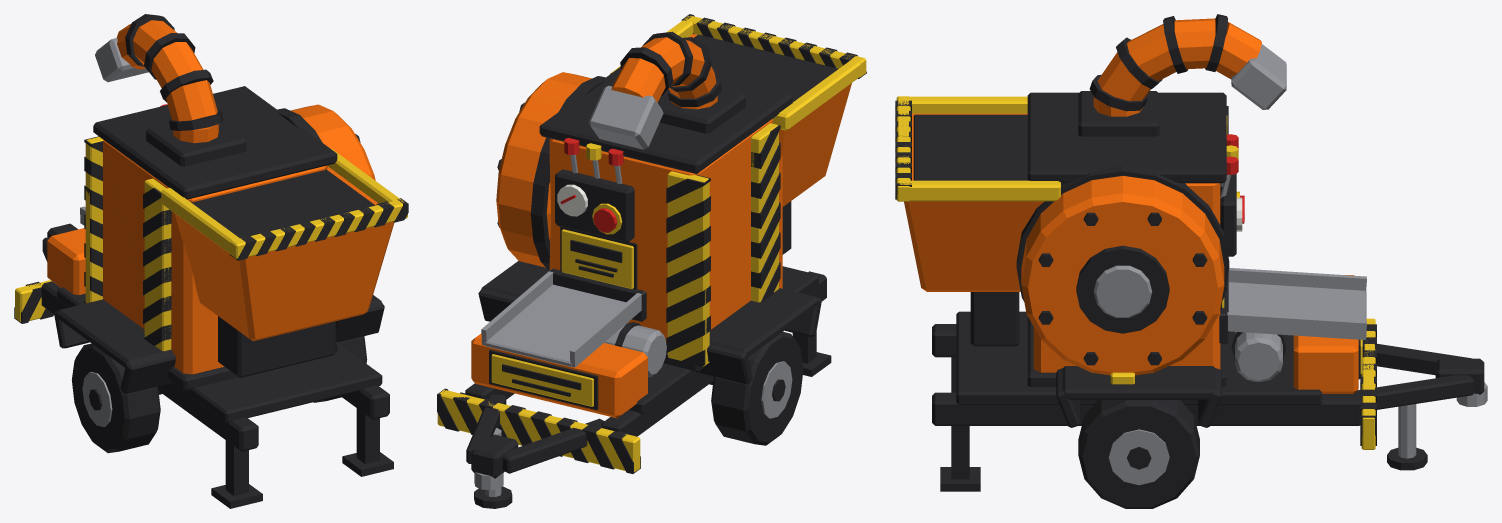
File: shredder.glb
3 renders of one model, left to right at view 1: azimuth 30°, elevation 25°; view 2: azimuth 150°, elevation 25°; view 3: azimuth 270°, elevation 25°, orthographic. The views are drawn at different scales.
Visible parts, largest first — view 1: SmoothPlastic__26262A, SmoothPlastic__FF700A, SmoothPlastic__FACE1E, Metal__96989E; view 2: SmoothPlastic__26262A, SmoothPlastic__FF700A, SmoothPlastic__FACE1E, Metal__96989E, SmoothPlastic__DC221E, SmoothPlastic__ECECE6; view 3: SmoothPlastic__26262A, SmoothPlastic__FF700A, Metal__96989E, SmoothPlastic__FACE1E.
Part boxes in pixels (x1,y1,x2,y2): SmoothPlastic__26262A: [14, 14, 408, 508]; SmoothPlastic__FF700A: [47, 20, 394, 374]; SmoothPlastic__FACE1E: [15, 137, 407, 351]; Metal__96989E: [80, 38, 148, 426]; SmoothPlastic__26262A: [437, 14, 866, 508]; SmoothPlastic__FF700A: [471, 34, 851, 418]; SmoothPlastic__FACE1E: [437, 16, 866, 472]; Metal__96989E: [474, 85, 792, 496]; SmoothPlastic__DC221E: [560, 138, 623, 232]; SmoothPlastic__ECECE6: [557, 184, 587, 216]; SmoothPlastic__26262A: [895, 14, 1484, 508]; SmoothPlastic__FF700A: [904, 18, 1358, 393]; Metal__96989E: [1093, 44, 1487, 485]; SmoothPlastic__FACE1E: [896, 96, 1375, 449].
Size of the model in its own units: 7.8 by 11.28 by 14.59.
